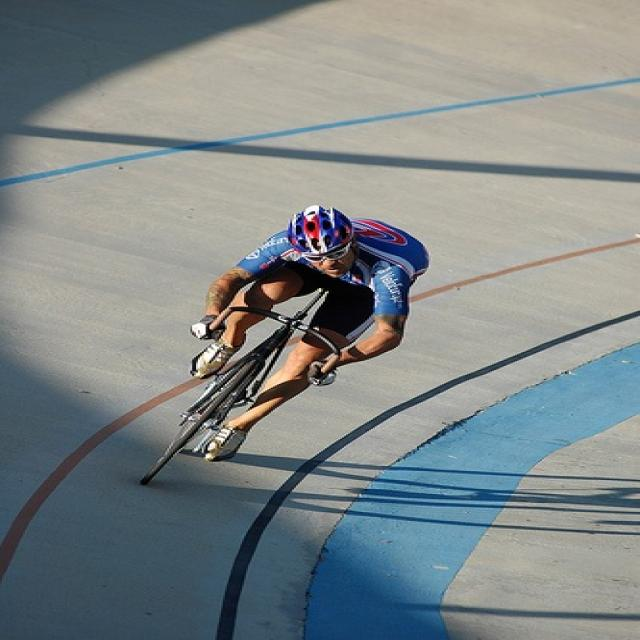bicycle: (115, 266, 371, 494)
